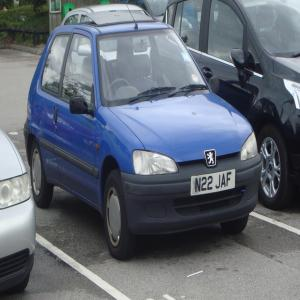Vehicle-registration-plate: (192, 169, 236, 196)
